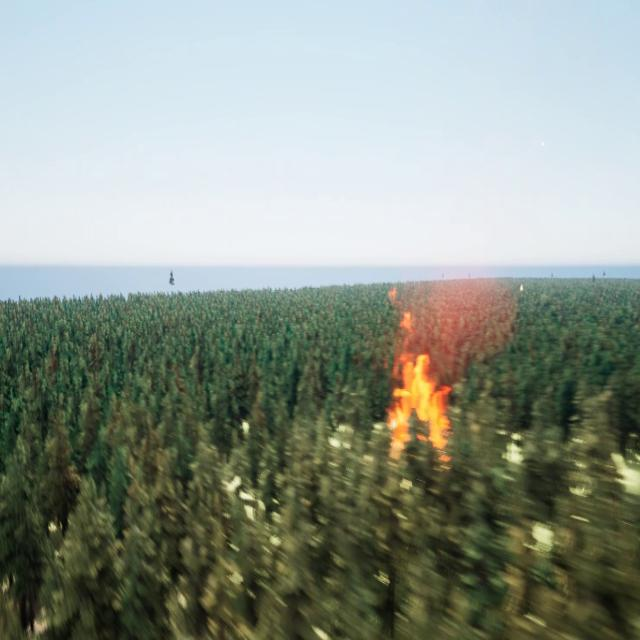fire: (391, 347, 448, 460)
smoke: (405, 275, 518, 378)
